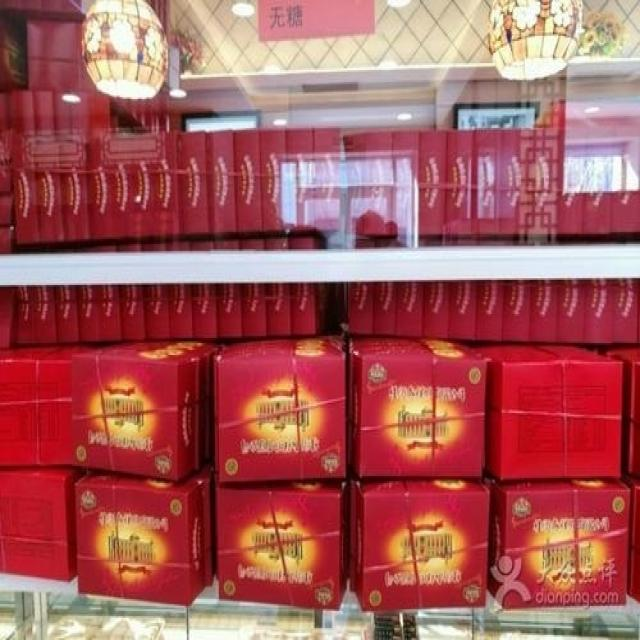box: (461, 341, 622, 480), (348, 336, 485, 481), (212, 333, 346, 481), (485, 478, 630, 608), (353, 476, 490, 611), (76, 471, 206, 608), (70, 346, 195, 483), (216, 480, 347, 609), (96, 340, 221, 468), (0, 345, 91, 468), (0, 468, 77, 582), (54, 92, 91, 239), (6, 90, 40, 244), (604, 345, 640, 476), (33, 90, 64, 242), (518, 121, 557, 236), (557, 118, 589, 234), (86, 94, 111, 239), (584, 118, 614, 232), (445, 128, 476, 234), (179, 131, 210, 236), (612, 118, 640, 232), (285, 130, 316, 232), (417, 131, 447, 234), (207, 131, 237, 234), (151, 130, 180, 236), (234, 130, 264, 232), (260, 130, 289, 232), (364, 131, 393, 232), (393, 131, 420, 234), (315, 128, 342, 230), (474, 128, 498, 236), (129, 133, 152, 239), (498, 128, 520, 236), (343, 133, 365, 232), (109, 135, 129, 239), (584, 280, 614, 346), (291, 283, 325, 336), (530, 280, 558, 343), (503, 282, 531, 345), (613, 280, 640, 345), (627, 471, 640, 604), (448, 282, 477, 341), (476, 282, 503, 345), (558, 280, 584, 343), (32, 285, 59, 345), (168, 283, 196, 340), (422, 282, 449, 341), (119, 285, 147, 341), (396, 282, 425, 336), (216, 283, 242, 341), (143, 285, 170, 340), (348, 282, 375, 336), (242, 283, 268, 338), (55, 285, 79, 343), (372, 282, 397, 336), (0, 94, 13, 195), (77, 285, 100, 341), (195, 283, 218, 338), (268, 283, 291, 336), (99, 285, 120, 341), (0, 287, 18, 350), (18, 287, 33, 345), (348, 232, 375, 249), (291, 237, 328, 249), (0, 193, 13, 227), (0, 227, 13, 253), (375, 234, 397, 247), (265, 239, 291, 249), (242, 239, 266, 249), (192, 241, 215, 251), (215, 241, 242, 249), (166, 242, 192, 249), (143, 244, 166, 251), (118, 246, 145, 251)
